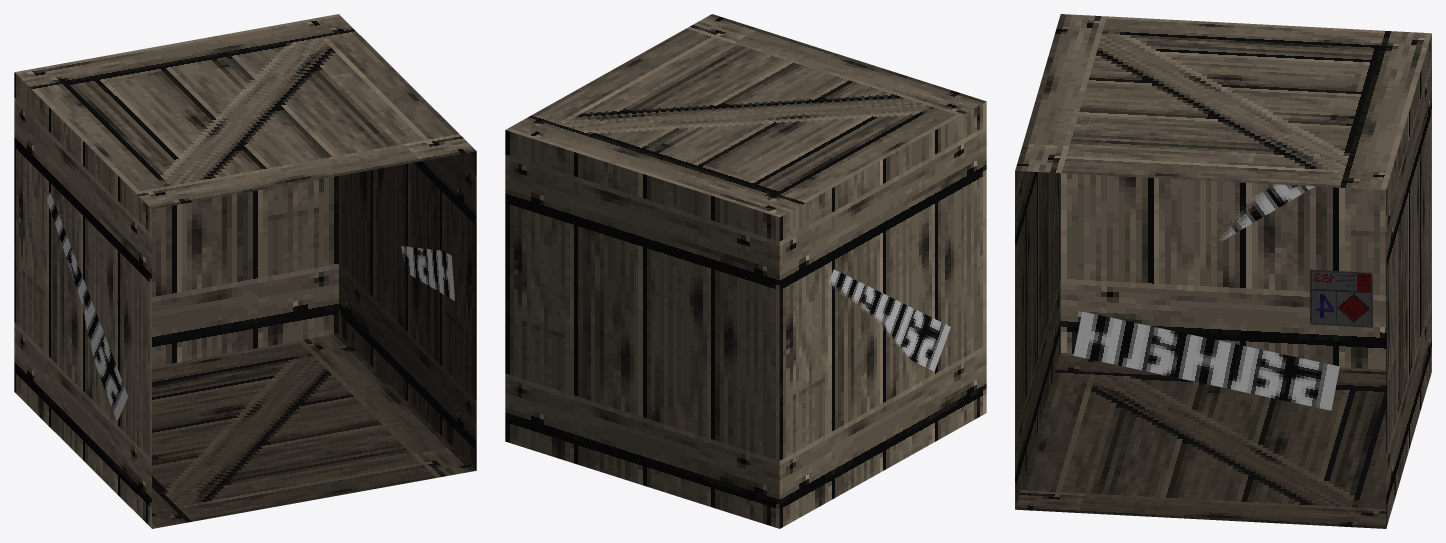
Rendered from wooden_crate.glb.
3 renders of one model, left to right at view 1: azimuth 30°, elevation 25°; view 2: azimuth 150°, elevation 25°; view 3: azimuth 270°, elevation 25°, orthographic. The views are drawn at different scales.
Parts seen in each view (by area): view 1: Object; view 2: Object; view 3: Object.
Part boxes in pixels (x1,y1,x2,y2): Object: (14, 14, 476, 528); Object: (505, 14, 986, 528); Object: (1015, 14, 1431, 528).
Size of the model in its own units: 1.06 by 0.9501 by 1.06.
Materials: 7 (7 with a texture image).
